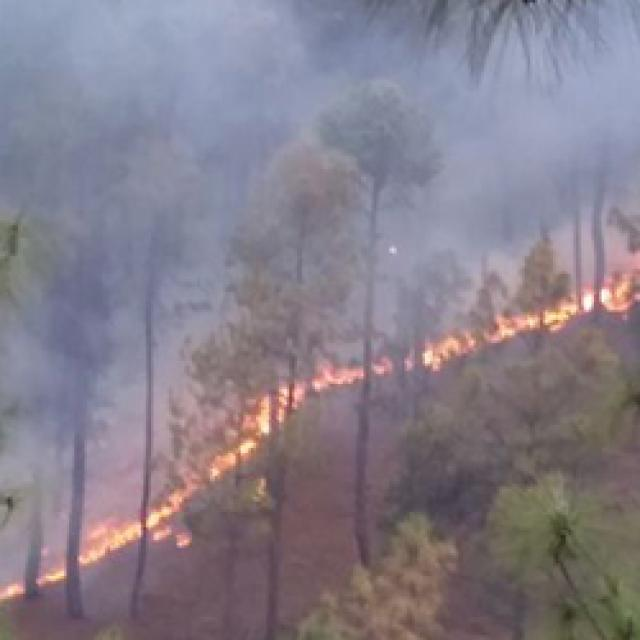Fire: (498, 289, 636, 330), (144, 482, 198, 544), (75, 516, 141, 564), (213, 424, 260, 482), (420, 334, 475, 378), (0, 566, 66, 596), (312, 362, 370, 394), (260, 388, 297, 436), (488, 320, 514, 340), (378, 353, 392, 380)
Smoke: (0, 0, 640, 292), (66, 294, 418, 354), (0, 288, 74, 564), (72, 352, 144, 516), (144, 354, 214, 450)
